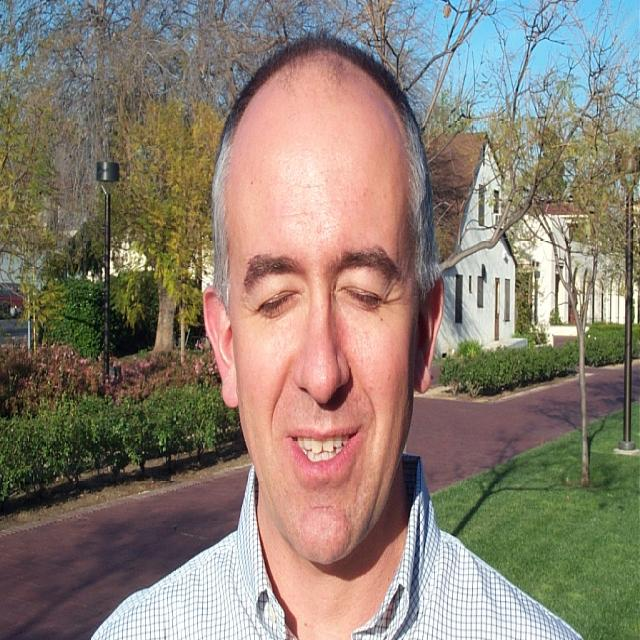Eyeclosed: (336, 272, 386, 318), (254, 282, 305, 325)
